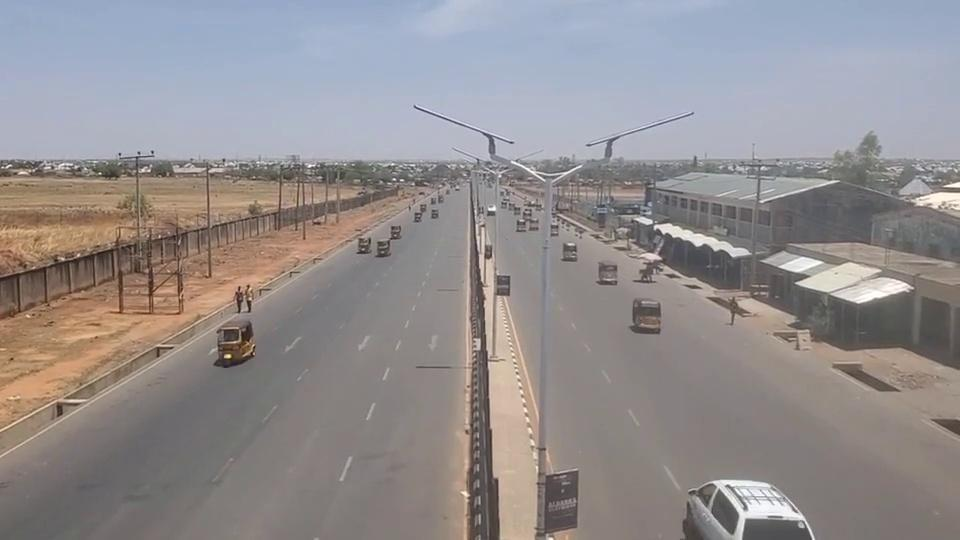car: (682, 478, 814, 539)
keke: (215, 319, 256, 366), (631, 297, 661, 332), (598, 260, 618, 284), (563, 243, 578, 261), (376, 239, 391, 256), (357, 236, 371, 253), (390, 225, 402, 239), (414, 211, 422, 222), (431, 208, 439, 218)
